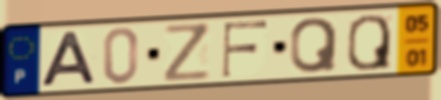0: (101, 26, 140, 86)
A: (37, 30, 100, 89)
F: (219, 18, 270, 80)
Q: (288, 16, 340, 76), (344, 12, 393, 73)
Z: (162, 21, 213, 84)
